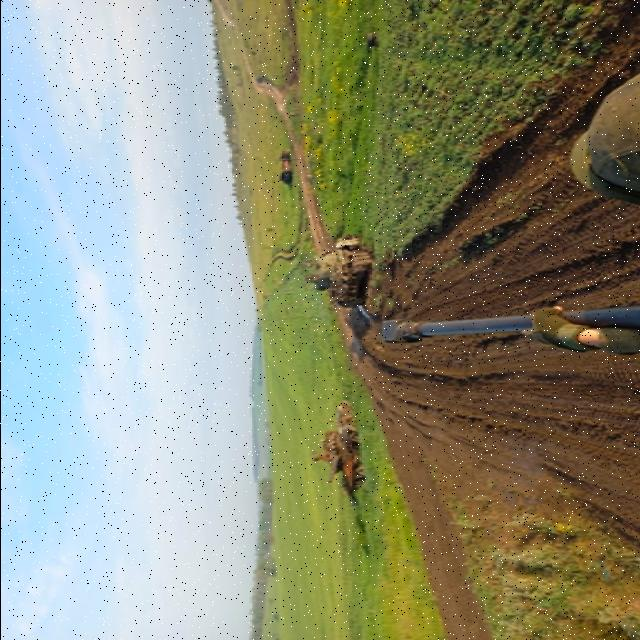APC-IFV: (264, 148, 300, 188)
TANK: (286, 236, 382, 315), (302, 410, 368, 505)
